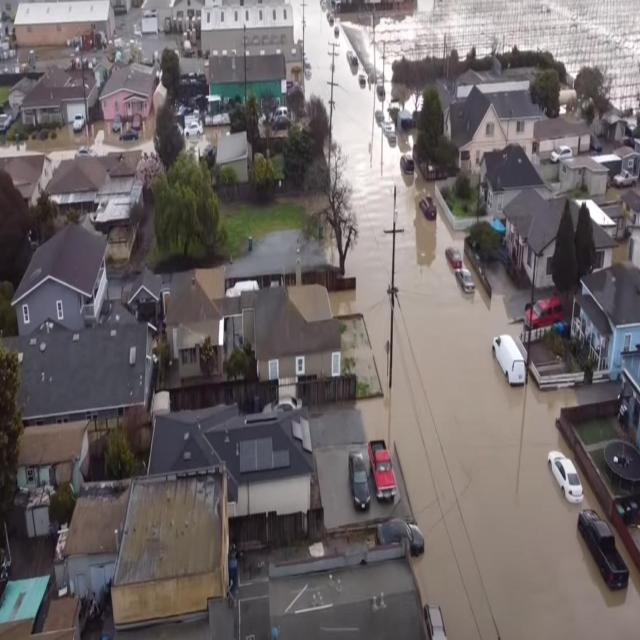flood: (334, 40, 640, 639), (376, 0, 640, 107), (401, 420, 524, 637), (305, 0, 335, 104)
house: (164, 265, 343, 380), (106, 466, 232, 618), (269, 534, 429, 640), (503, 182, 625, 288), (228, 400, 314, 528), (12, 222, 111, 324), (572, 259, 640, 383), (21, 63, 97, 144), (206, 51, 288, 125), (200, 5, 295, 61), (480, 140, 545, 218), (17, 419, 87, 490), (458, 80, 508, 171), (100, 62, 160, 128), (46, 152, 106, 202), (538, 113, 591, 155), (618, 144, 638, 173)
